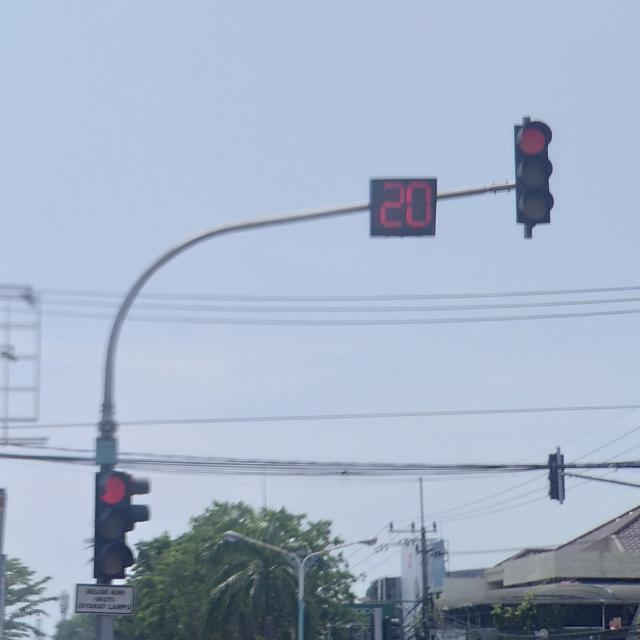red_light: (92, 469, 147, 578), (512, 114, 552, 236)
